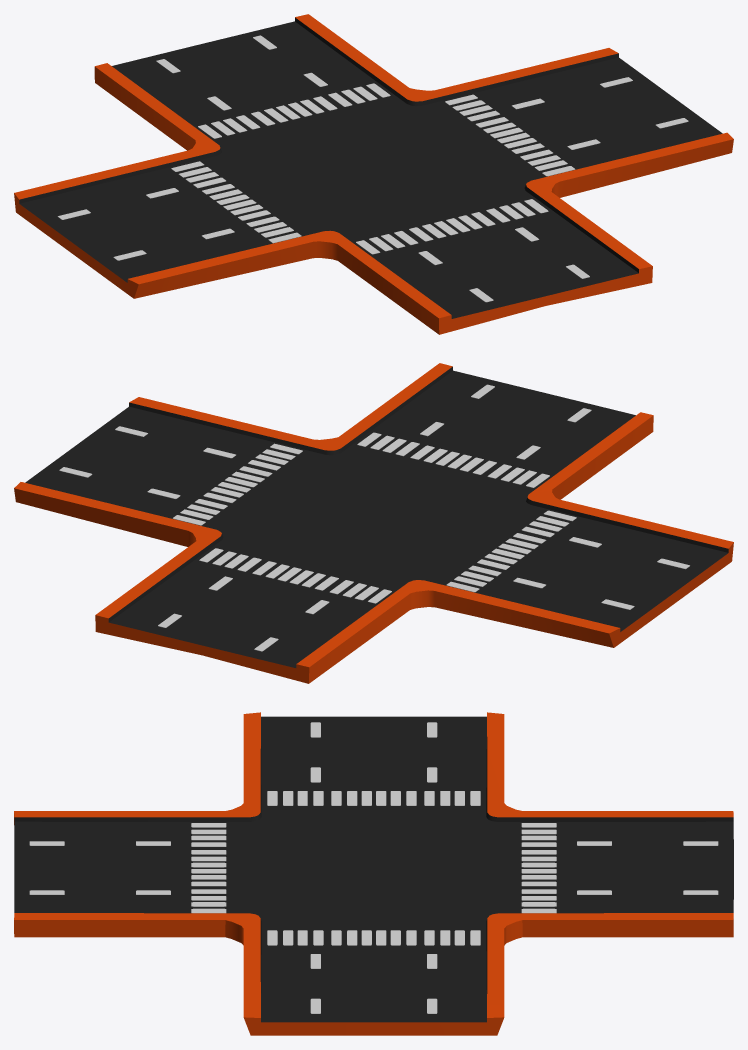
File: Troad.fbx
3 renders of one model, top to bottom at view 1: azimuth 30°, elevation 25°; view 2: azimuth 150°, elevation 25°; view 3: azimuth 270°, elevation 25°, orthographic. The views are drawn at different scales.
Visible parts, largest first — view 1: Plane; view 2: Plane; view 3: Plane.
Part boxes in pixels (x1,y1,x2,y2): Plane: (14,14,733,334); Plane: (14,363,733,683); Plane: (14,712,733,1035).
Bounding box in the file's own units: 1254 × 33.54 × 1248.
